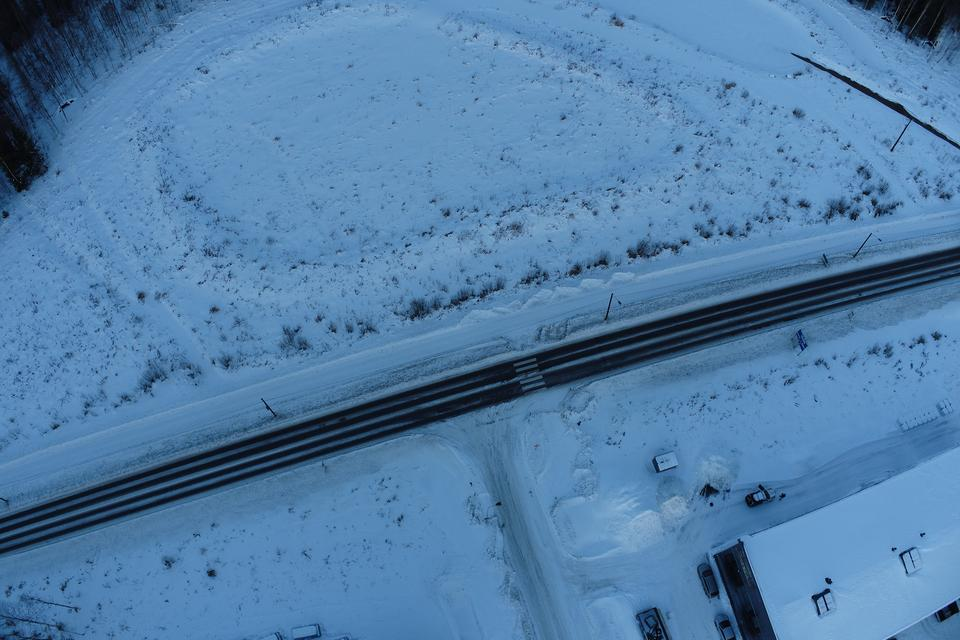intersection: (393, 302, 571, 501)
